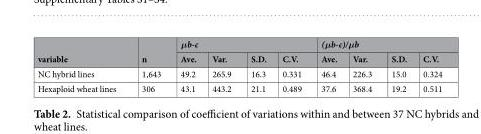table: (36, 37, 441, 94)
table column: (36, 37, 128, 94), (128, 37, 170, 94), (203, 37, 240, 94), (273, 37, 310, 94), (344, 37, 380, 94), (310, 37, 344, 94), (380, 37, 414, 94), (170, 37, 203, 94), (240, 37, 273, 94), (414, 37, 441, 94)
table column header: (36, 37, 441, 65)
table row: (36, 50, 441, 65), (36, 65, 441, 80), (36, 80, 441, 94), (36, 37, 441, 50)
table spanning cell: (36, 37, 128, 65), (170, 37, 310, 50), (310, 37, 441, 50), (128, 37, 170, 65)
